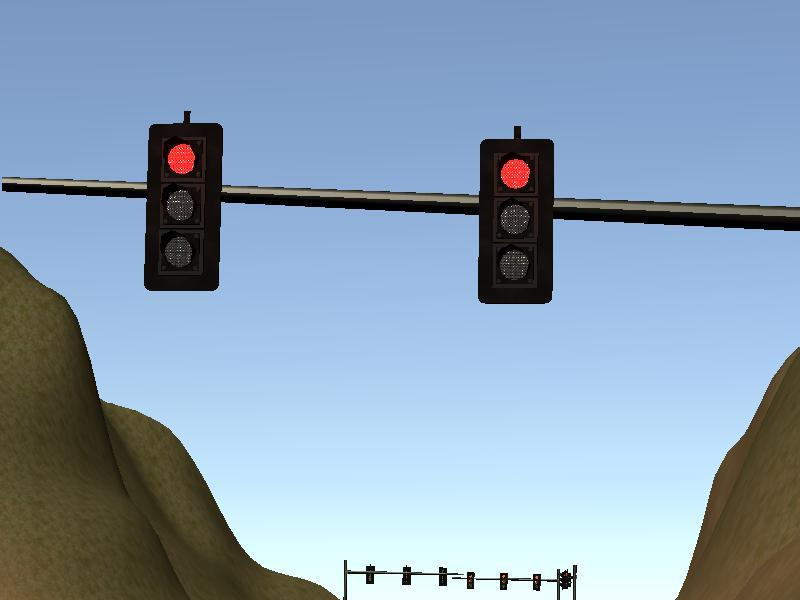Red: (482, 141, 550, 303), (151, 126, 218, 288)
